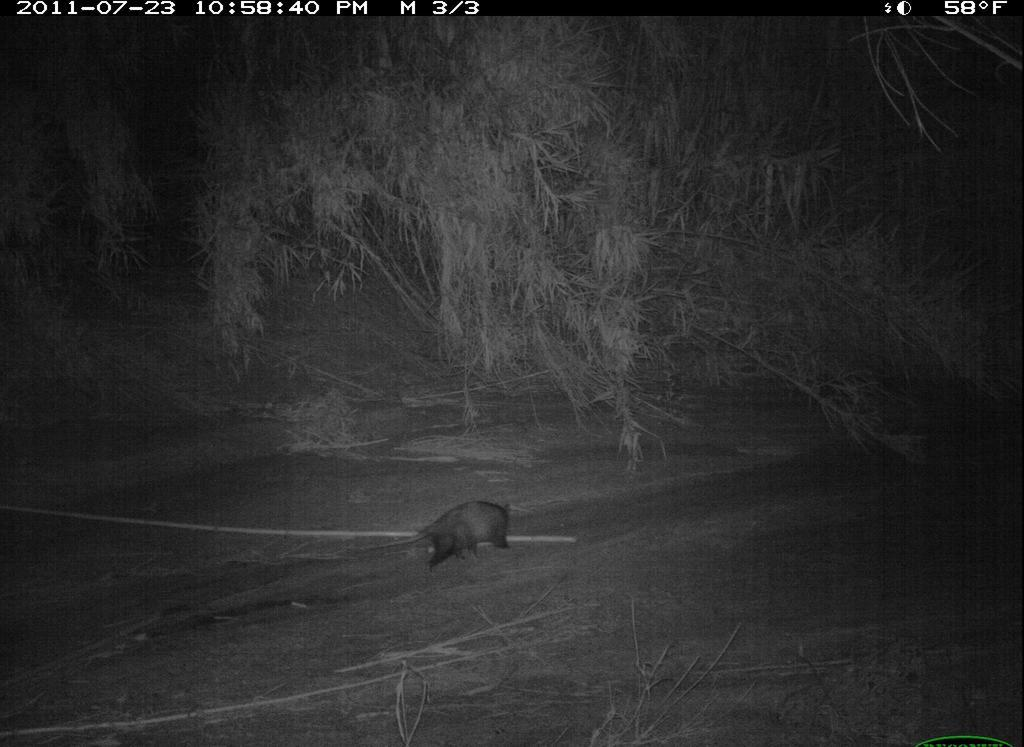opossum: (349, 491, 529, 593)
